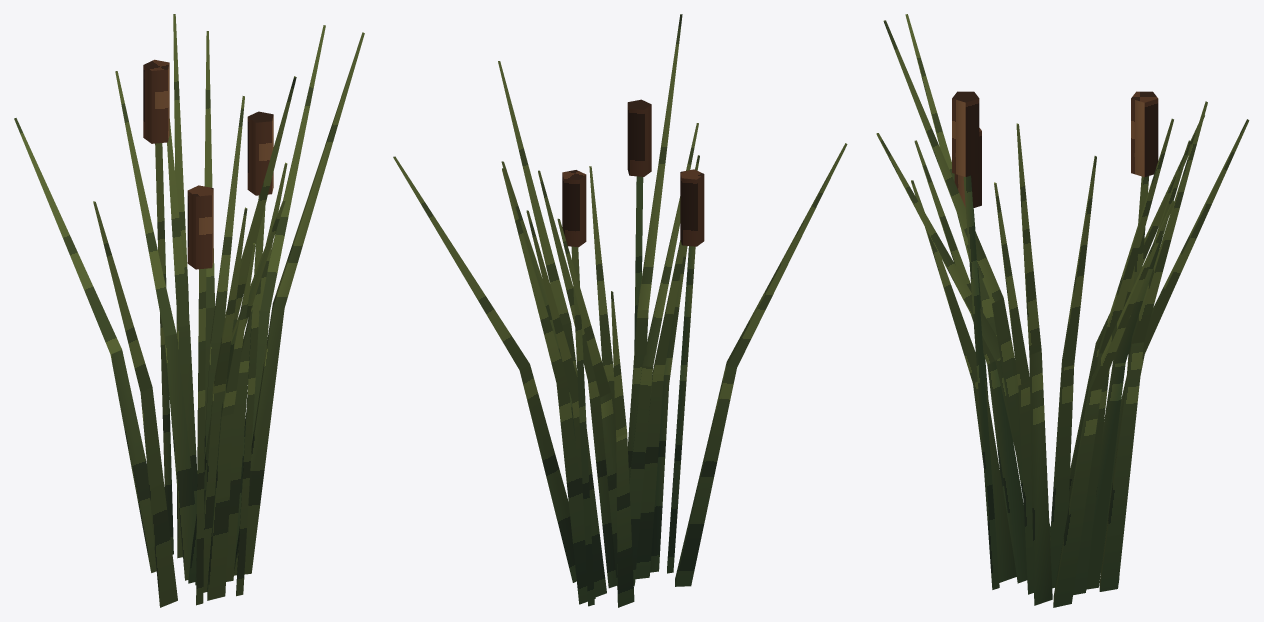
The model's file is lake.reeds.glb.
3 renders of one model, left to right at view 1: azimuth 30°, elevation 25°; view 2: azimuth 150°, elevation 25°; view 3: azimuth 270°, elevation 25°, orthographic. The views are drawn at different scales.
Parts seen in each view (by area): view 1: kit_reeds, kit_cattails; view 2: kit_reeds, kit_cattails; view 3: kit_reeds, kit_cattails.
Boxes of the visible parts, x1,y1,x2,y2 form: kit_reeds: (14,14,364,607); kit_cattails: (143,59,273,605); kit_reeds: (393,14,847,607); kit_cattails: (562,99,704,606); kit_reeds: (876,14,1249,607); kit_cattails: (952,91,1158,589).
Size of the model in its own units: 1.04 by 1.53 by 0.907.
2 materials, 2 textured.
